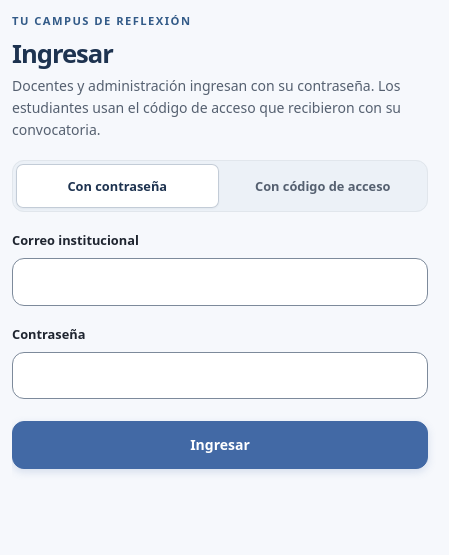
Test: acceso › valida los campos antes de llamar al servidor
Click the button "Ingresar" at (220, 445), box [12,421,428,469]
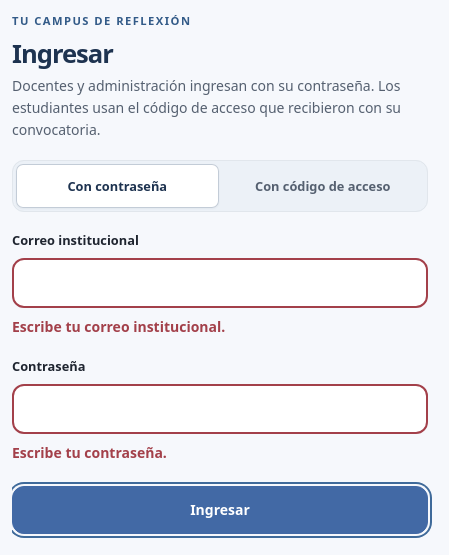
Result: the text "Escribe tu correo institucional." is shown at [12,316,225,336]
